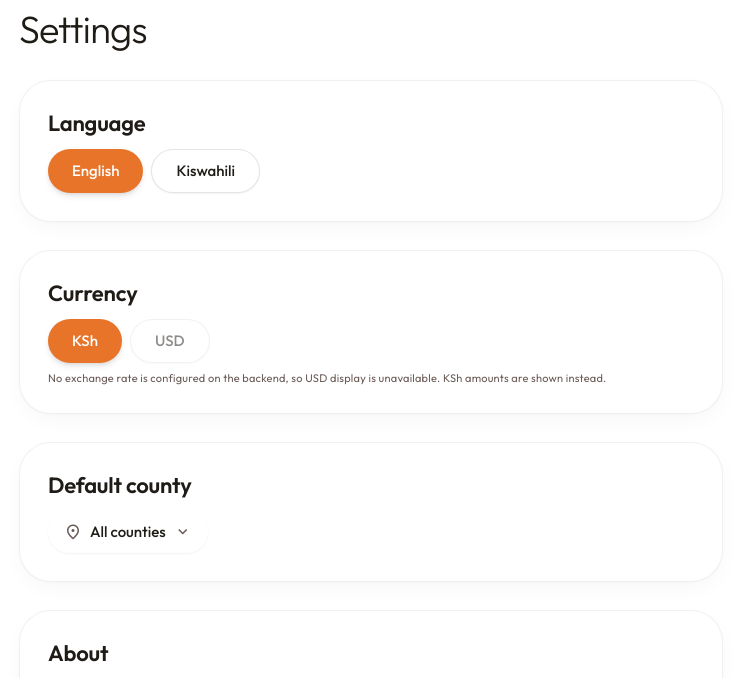
Scenario: P8b (a): county options › render exactly the mocked row_counts (n>0, sorted) plus All counties
The image size is (740, 678).
Step 1. Click the button "All counties" → (128, 532), box top-left (48, 511), bottom-right (208, 553)
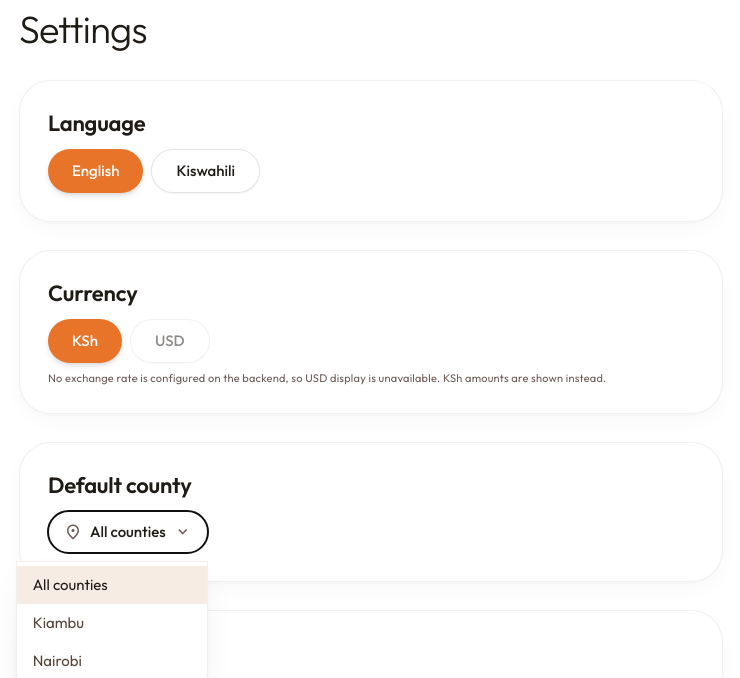
Now the button "Kiambu" is shown, box top-left (17, 604), bottom-right (207, 642)
